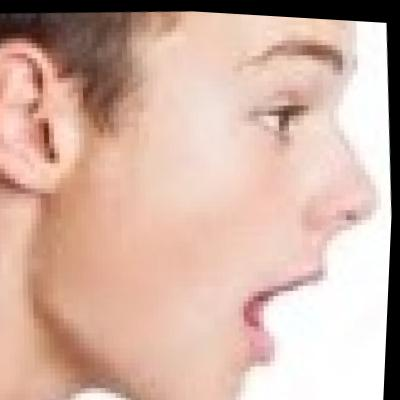surprise: (52, 3, 400, 400)
